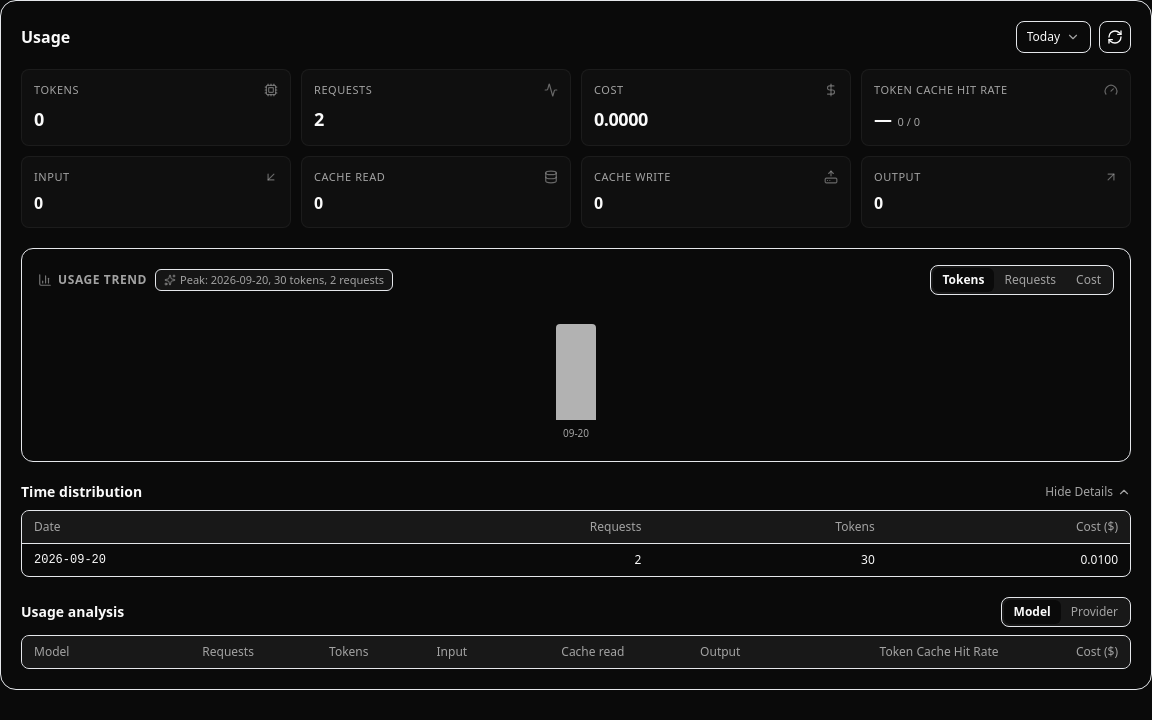
UsageStatsPanel › 支持展开和收起时间分布详细明细表格
This screenshot has width=1152, height=720.
Expected: the table with test id "ai-gateway-usage-buckets" is shown, x1=22 y1=511 x2=1130 y2=576
Click the button with test id "ai-gateway-toggle-bucket-table".
click(1088, 492)  # box x1=1045 y1=484 x2=1131 y2=500
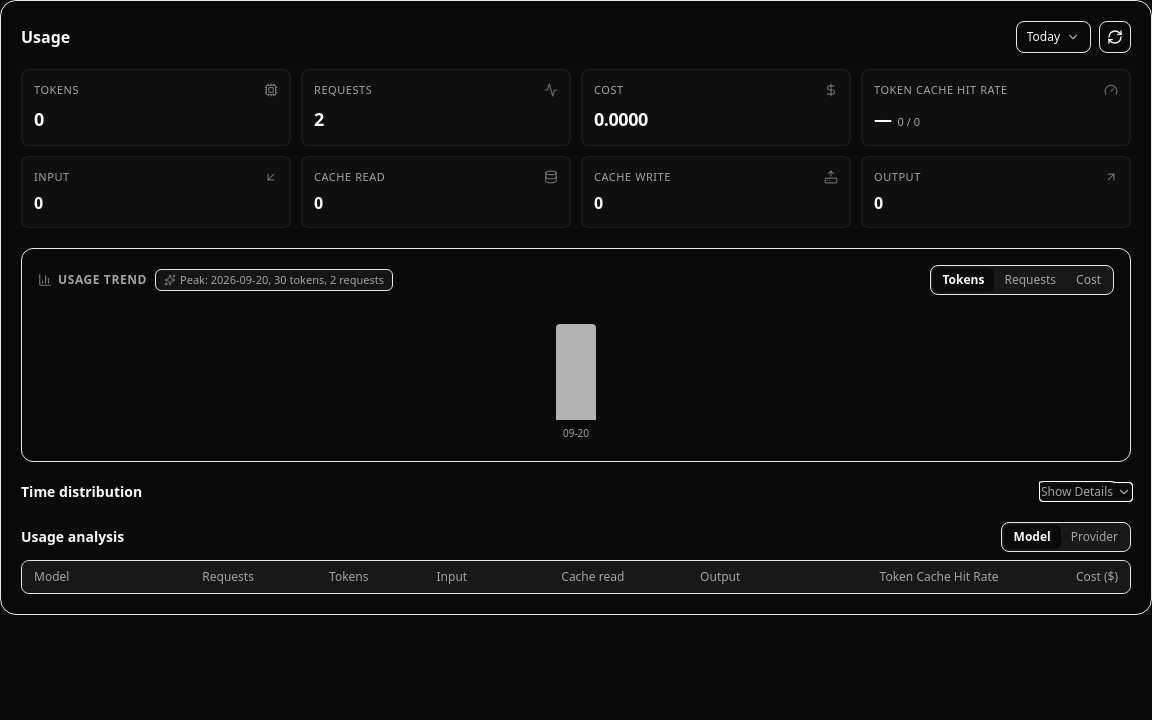
Expected: the table with test id "ai-gateway-usage-buckets" is gone
Expected: the button with test id "ai-gateway-toggle-bucket-table" reads "Show Details"
Click the button with test id "ai-gateway-toggle-bucket-table".
click(1086, 492)  # box x1=1041 y1=484 x2=1131 y2=500
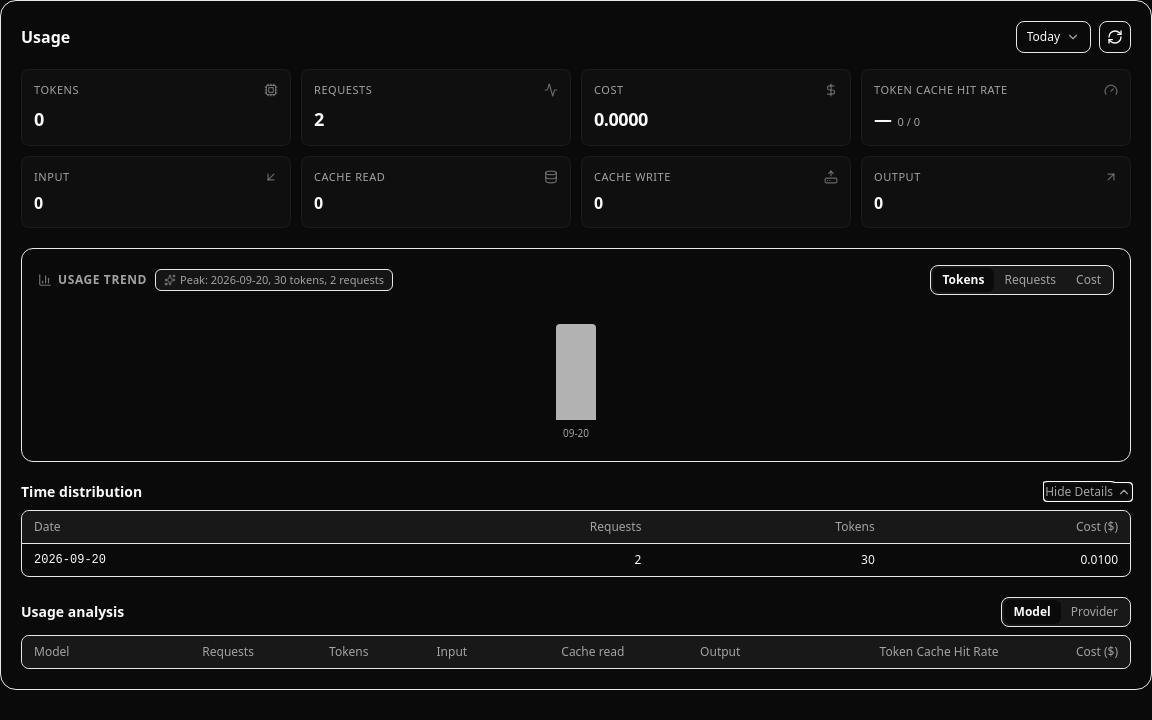
Expected: the table with test id "ai-gateway-usage-buckets" is shown, x1=22 y1=511 x2=1130 y2=576
